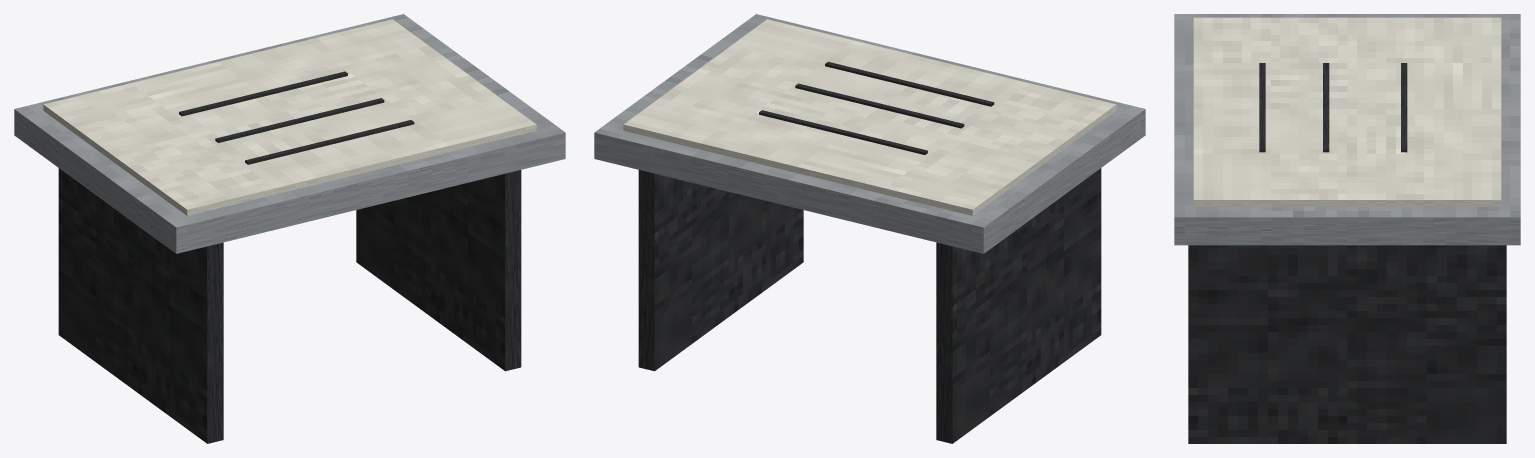
Rendered from studio-light-table.glb.
The picture shows the model from 3 angles, left to right: view 1: azimuth 30°, elevation 25°; view 2: azimuth 150°, elevation 25°; view 3: azimuth 270°, elevation 25°; orthographic projection. The views are drawn at different scales.
Parts seen in each view (by area): view 1: table legs (×2), light box, tilt table body, drawing (×3); view 2: table legs (×2), light box, tilt table body, drawing (×3); view 3: table legs, light box, tilt table body, drawing (×3).
Part boxes in pixels (left/top/right/bottom): table legs (×2): left=58, top=168, right=521, bottom=443; light box: left=43, top=19, right=536, bottom=215; tilt table body: left=14, top=14, right=565, bottom=253; drawing (×3): left=179, top=71, right=414, bottom=164; table legs (×2): left=638, top=168, right=1101, bottom=443; light box: left=623, top=19, right=1116, bottom=215; tilt table body: left=594, top=14, right=1145, bottom=253; drawing (×3): left=759, top=61, right=994, bottom=154; table legs: left=1188, top=245, right=1506, bottom=443; light box: left=1193, top=17, right=1501, bottom=206; tilt table body: left=1174, top=14, right=1520, bottom=245; drawing (×3): left=1259, top=63, right=1407, bottom=152.
Size of the model in its own units: 1.36 by 0.798 by 0.98.
3 materials, 3 textured.
